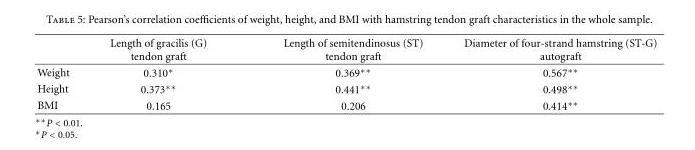table: (36, 36, 656, 111)
table column: (442, 36, 656, 111), (244, 36, 442, 111), (89, 36, 244, 111), (36, 36, 89, 111)
table column header: (36, 36, 656, 63)
table row: (36, 36, 656, 63), (36, 63, 656, 80), (36, 80, 656, 96), (36, 96, 656, 111)
